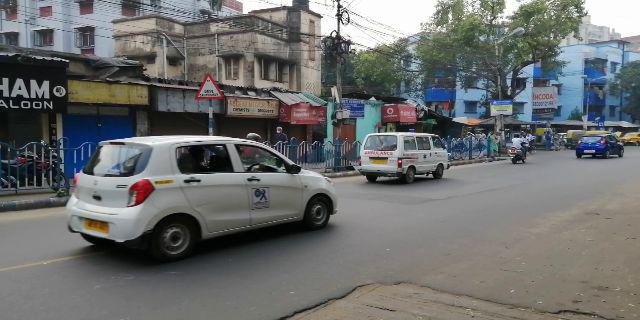Car: (66, 133, 338, 259), (577, 132, 627, 160)
Motorbike: (504, 131, 532, 162)
Van: (362, 132, 452, 178)
